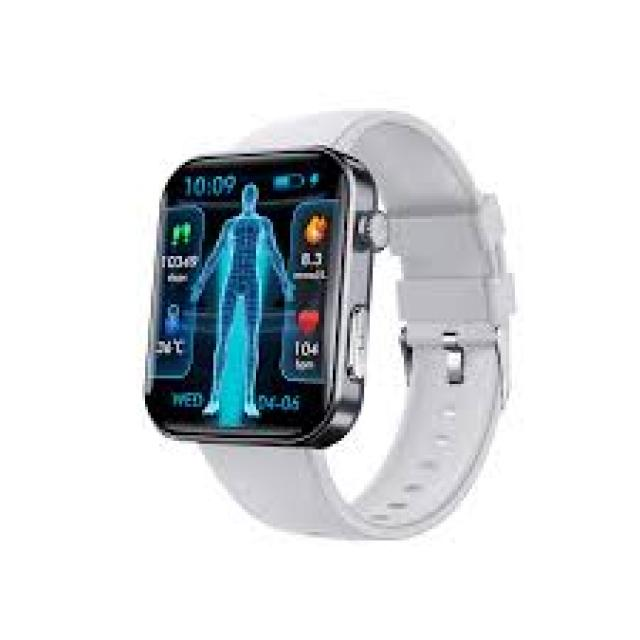objects: (148, 111, 512, 541)
